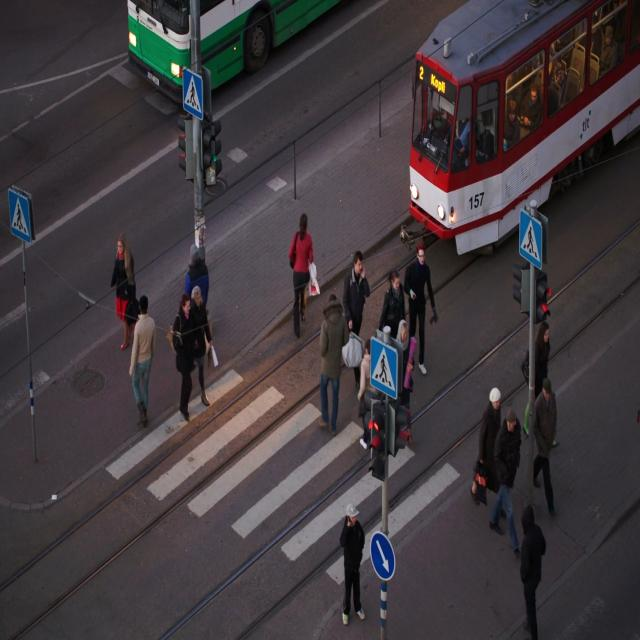pedestrian: (320, 294, 349, 436), (471, 388, 501, 504), (532, 377, 557, 514), (129, 295, 155, 425), (289, 215, 316, 337), (118, 249, 133, 283), (182, 375, 191, 399), (538, 321, 548, 337)
